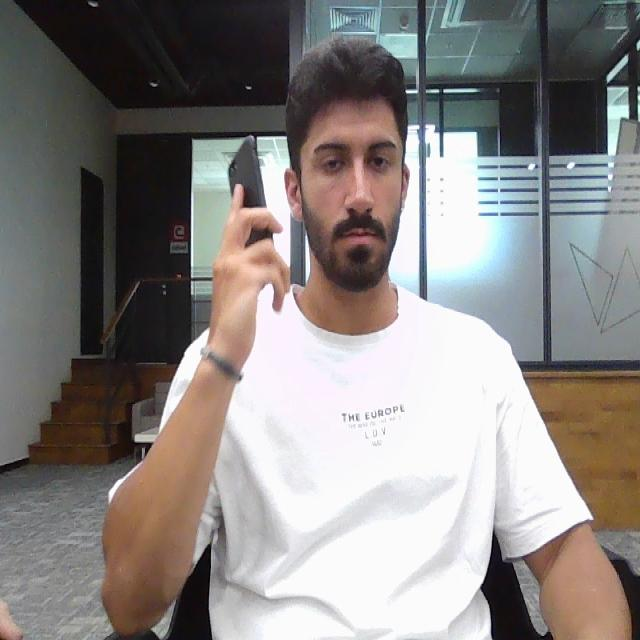phone: (227, 134, 272, 251)
